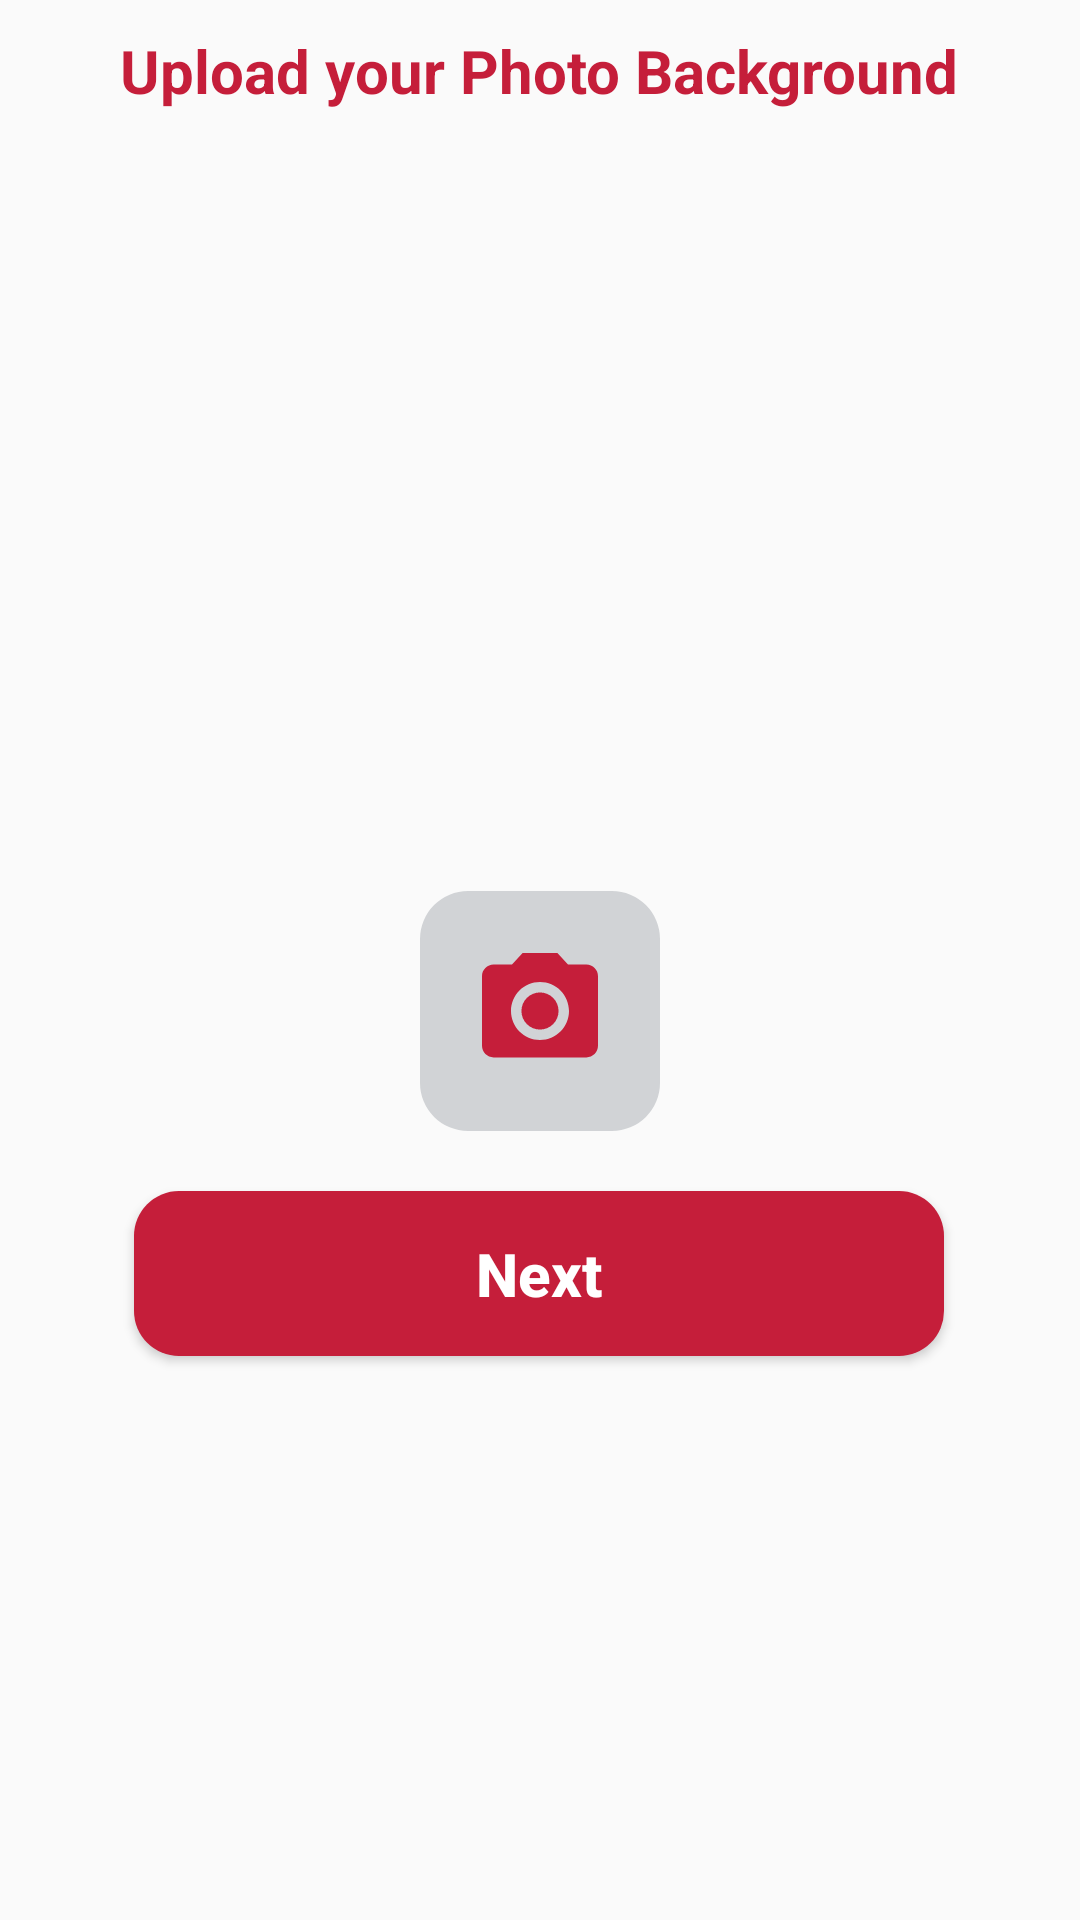

Named icons in this screenshot (1080×1920) and their bounding boxes, (x1, y1, x2, y2):
cam: (420, 891, 660, 1131)
